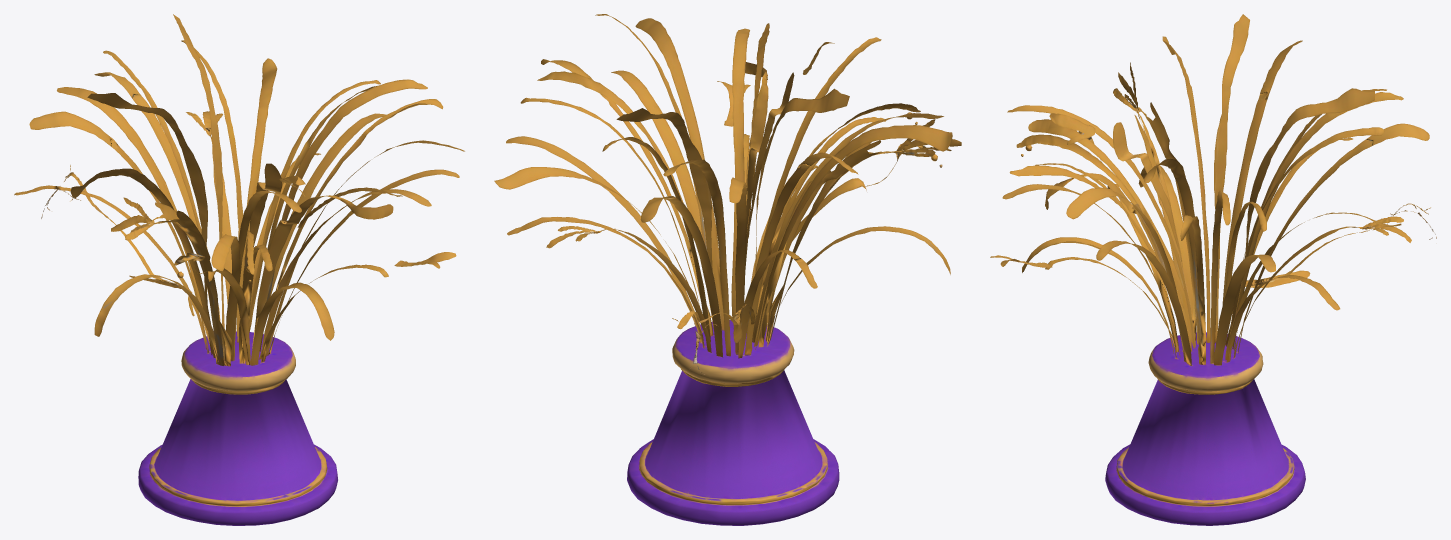
File: r33-fountain.glb
3 renders of one model, left to right at view 1: azimuth 30°, elevation 25°; view 2: azimuth 150°, elevation 25°; view 3: azimuth 270°, elevation 25°, orthographic. The views are drawn at different scales.
Parts seen in each view (by area): view 1: tripo_node_b170ea4a-22fe-4029-984d-c84f9b6bf188; view 2: tripo_node_b170ea4a-22fe-4029-984d-c84f9b6bf188; view 3: tripo_node_b170ea4a-22fe-4029-984d-c84f9b6bf188.
Part boxes in pixels (box(x1,y1,x2,y2)): tripo_node_b170ea4a-22fe-4029-984d-c84f9b6bf188: box(14, 14, 464, 525); tripo_node_b170ea4a-22fe-4029-984d-c84f9b6bf188: box(494, 14, 961, 525); tripo_node_b170ea4a-22fe-4029-984d-c84f9b6bf188: box(990, 14, 1436, 525).
Size of the model in its own units: 0.9668 by 0.998 by 0.9863.
Materials: 1 (1 with a texture image).
